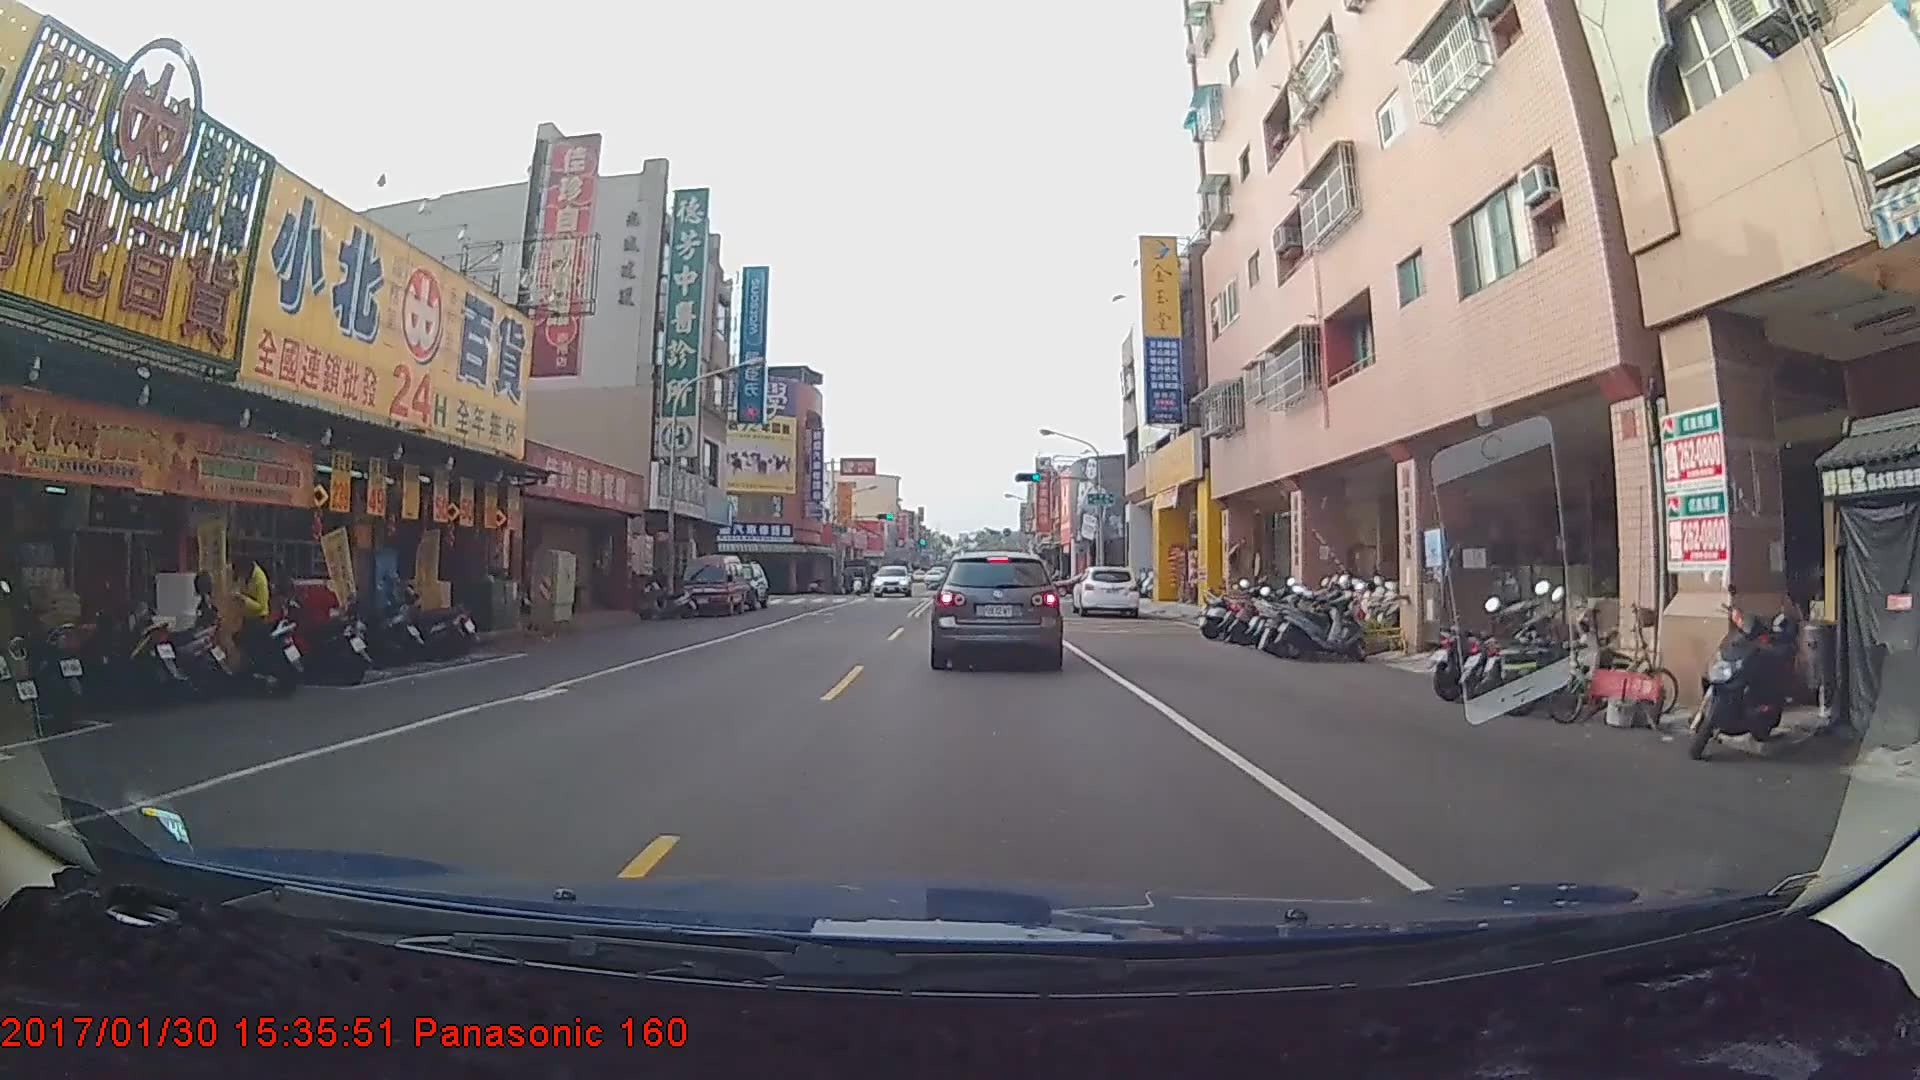pedestrian: (225, 546, 275, 683)
vehicle: (932, 551, 1062, 667), (682, 558, 745, 624), (1070, 566, 1139, 618), (870, 563, 910, 597)
